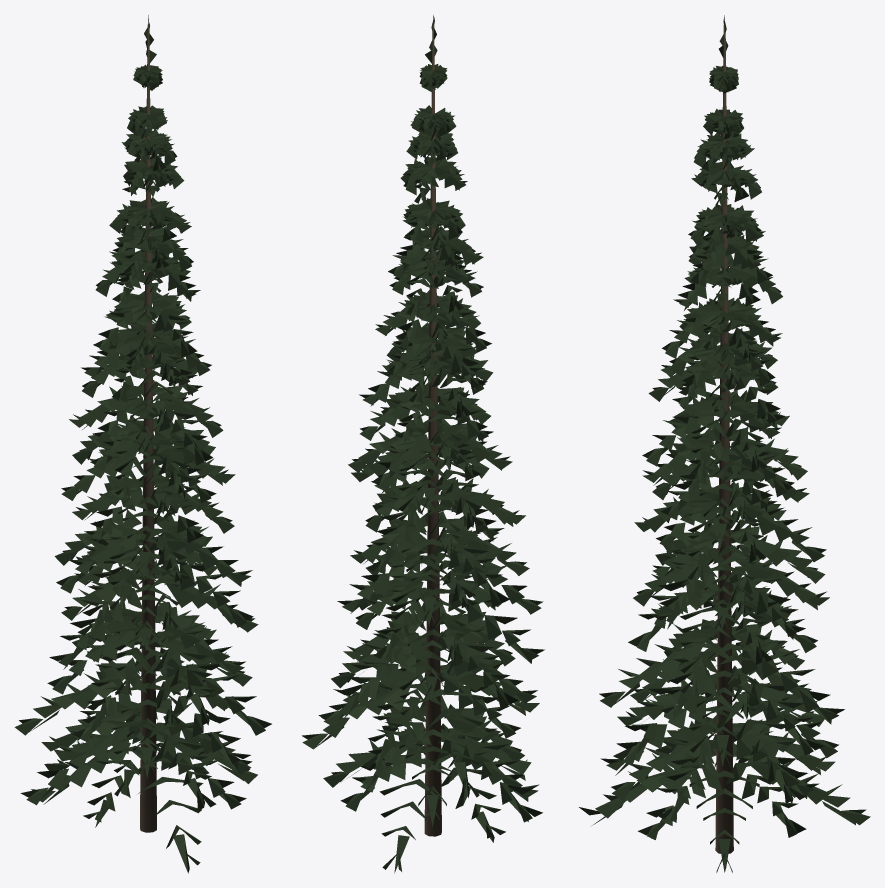
The model's file is forest-spruce_mobile.glb.
3 views of the same model, side by side, from view 1: azimuth 30°, elevation 25°; view 2: azimuth 150°, elevation 25°; view 3: azimuth 270°, elevation 25° (orthographic). The views are drawn at different scales.
Visible parts, largest first — view 1: forest-spruce-needles, forest-bark; view 2: forest-spruce-needles, forest-bark; view 3: forest-spruce-needles, forest-bark.
Boxes of the visible parts, x1,y1,x2,y2 form: forest-spruce-needles: [14, 15, 271, 873]; forest-bark: [140, 24, 156, 832]; forest-spruce-needles: [302, 15, 544, 873]; forest-bark: [424, 24, 441, 836]; forest-spruce-needles: [579, 15, 870, 872]; forest-bark: [715, 25, 733, 853].
Size of the model in its own units: 5.14 by 18.04 by 5.8.
2 materials, 1 textured.
